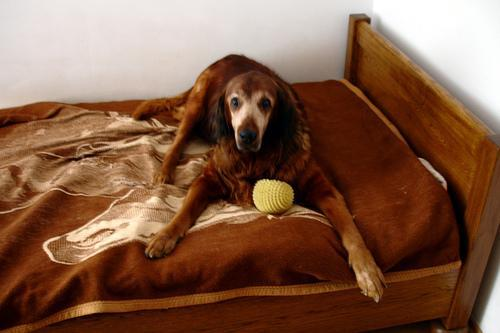Irish_setter: (135, 54, 389, 302)
